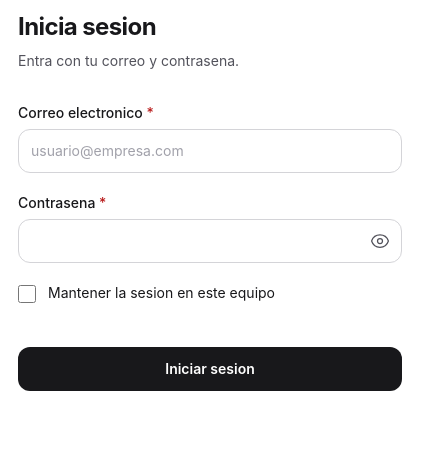
Test case: LoginPage › si el backend rechaza, muestra SU mensaje en un role=alert y se queda en el login
This screenshot has width=421, height=471.
Type "ana@empresa.com" into the field labelled "Correo electronico *". click: point(210, 151)
box: [18,129,402,173]
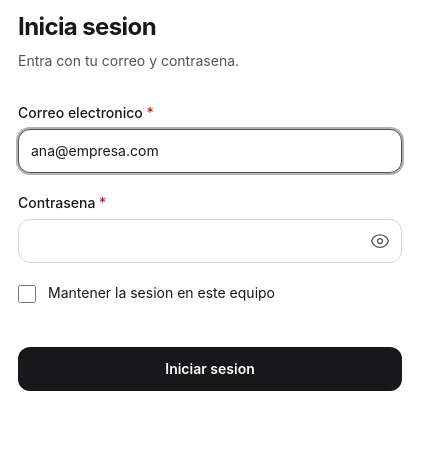
Type "mala" into the password field labelled "Contrasena *". click: point(210, 241)
box: [18,219,402,263]
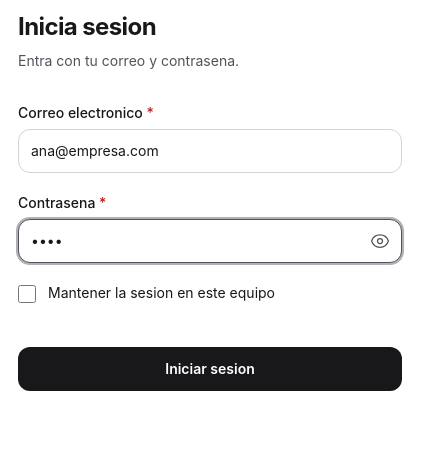
Click the button "Iniciar sesion". click: point(210, 369)
box: [18,347,402,391]
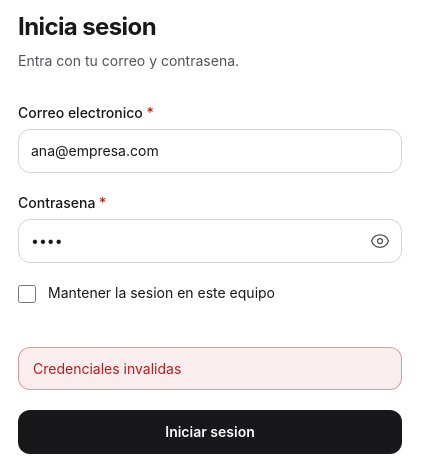
Check: the message reads "Credenciales invalidas", box [33,360,181,377]
